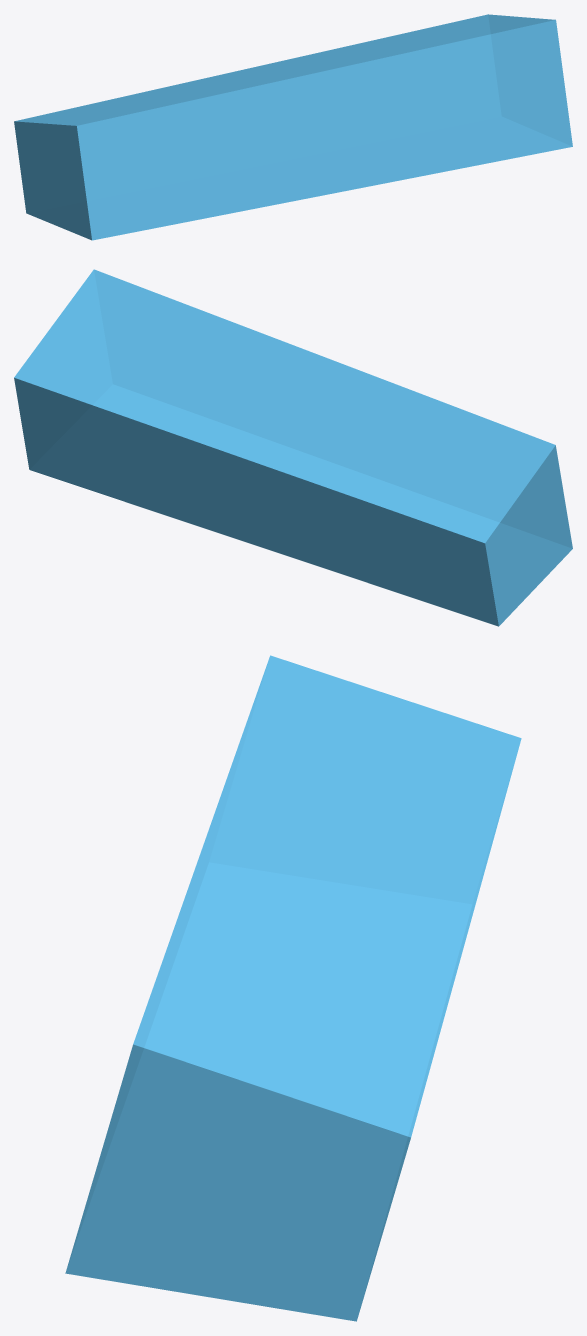
The model's file is Event_421115418_HErechit_74.fbx.
3 views of the same model, one above another, from view 1: azimuth 30°, elevation 25°; view 2: azimuth 150°, elevation 25°; view 3: azimuth 270°, elevation 25° (orthographic). The views are drawn at different scales.
Visible parts, largest first — view 1: Model; view 2: Model; view 3: Model.
Boxes of the visible parts, bbox=[...] form: Model: bbox=[14, 14, 572, 240]; Model: bbox=[14, 269, 572, 626]; Model: bbox=[65, 655, 521, 1321].
Size of the model in its own units: 1.1 by 0.3459 by 0.4861.
